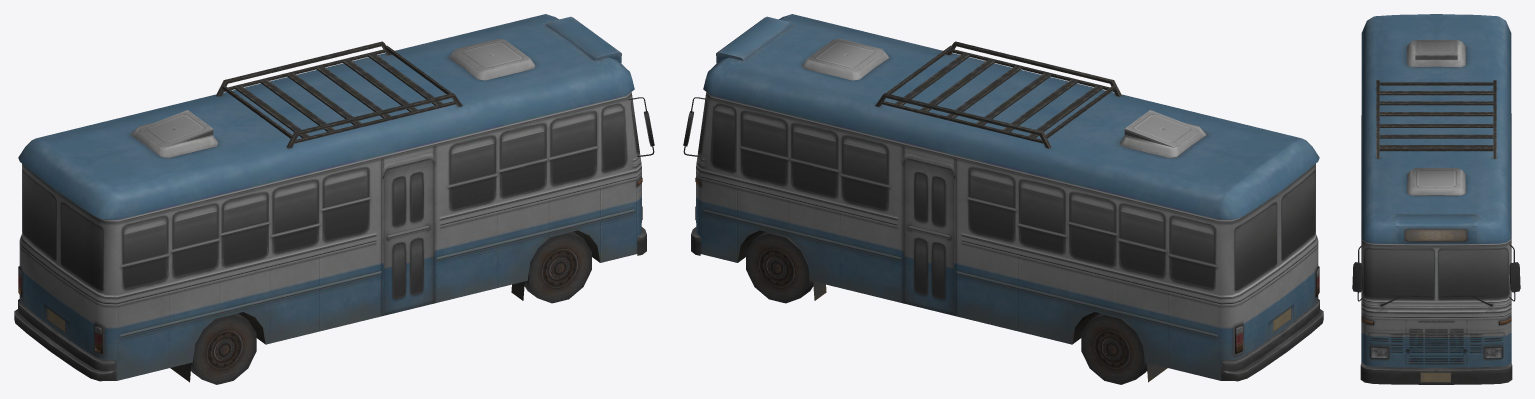
Rendered from sf_bus_01.glb.
3 renders of one model, left to right at view 1: azimuth 30°, elevation 25°; view 2: azimuth 150°, elevation 25°; view 3: azimuth 270°, elevation 25°, orthographic. The views are drawn at different scales.
Parts seen in each view (by area): view 1: Traffic_Bus_01_Body, Traffic_Bus_Wheel_Front_R_Traffic_Bus_Component_0, Traffic_Bus_Wheel_Rear_R_Traffic_Bus_Component_0; view 2: Traffic_Bus_01_Body, Traffic_Bus_Wheel_Front_L_Traffic_Bus_Component_0, Traffic_Bus_Wheel_Rear_L_Traffic_Bus_Component_0; view 3: Traffic_Bus_01_Body, Traffic_Bus_01_Light.
Boxes of the visible parts, left/top/right/bottom form: Traffic_Bus_01_Body: left=14, top=14, right=654, bottom=382; Traffic_Bus_Wheel_Front_R_Traffic_Bus_Component_0: left=524, top=231, right=591, bottom=303; Traffic_Bus_Wheel_Rear_R_Traffic_Bus_Component_0: left=191, top=313, right=256, bottom=384; Traffic_Bus_01_Body: left=683, top=14, right=1323, bottom=382; Traffic_Bus_Wheel_Front_L_Traffic_Bus_Component_0: left=746, top=231, right=813, bottom=303; Traffic_Bus_Wheel_Rear_L_Traffic_Bus_Component_0: left=1081, top=313, right=1147, bottom=384; Traffic_Bus_01_Body: left=1352, top=14, right=1520, bottom=384; Traffic_Bus_01_Light: left=1370, top=346, right=1502, bottom=358.
Size of the model in its own units: 8.55 by 3.35 by 2.69.
3 materials, 3 textured.
